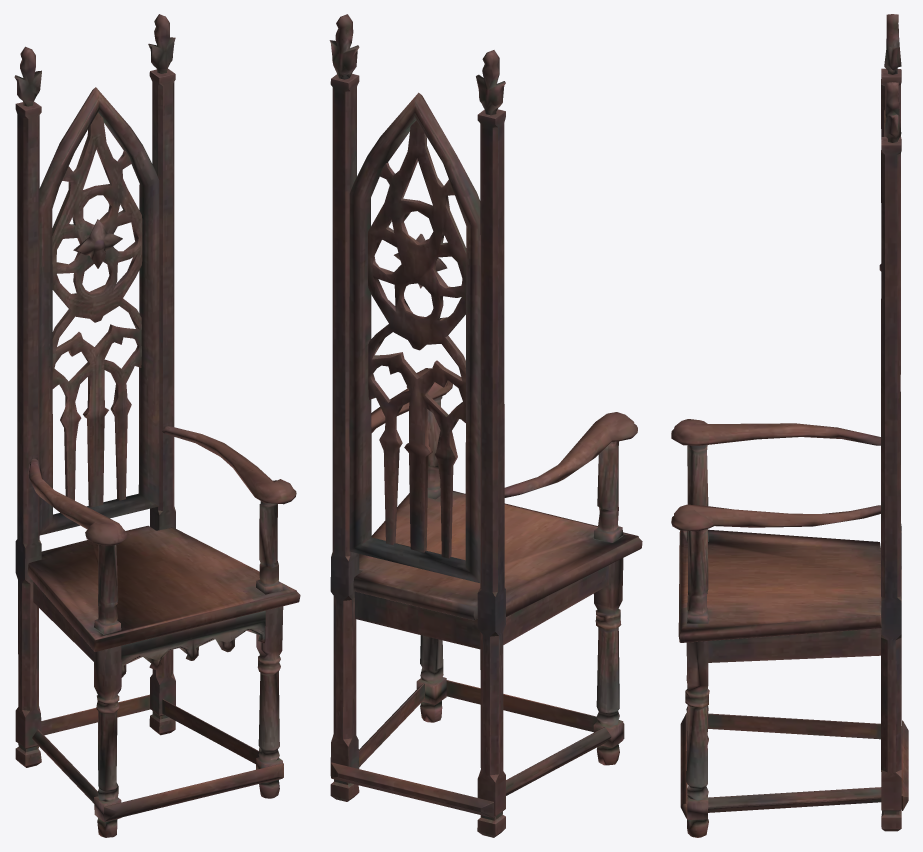
File: WoodenChair_01.glb
3 views of the same model, side by side, from view 1: azimuth 30°, elevation 25°; view 2: azimuth 150°, elevation 25°; view 3: azimuth 270°, elevation 25° (orthographic). The views are drawn at different scales.
Visible parts, largest first — view 1: WoodenChair_01; view 2: WoodenChair_01; view 3: WoodenChair_01.
Part boxes in pixels (x1=…): WoodenChair_01: x1=14, y1=14, x2=300, y2=837; WoodenChair_01: x1=329, y1=14, x2=642, y2=837; WoodenChair_01: x1=671, y1=14, x2=908, y2=837.
Bounding box in the file's own units: 0.6872 × 2.27 × 0.6555.
1 material, 1 textured.
